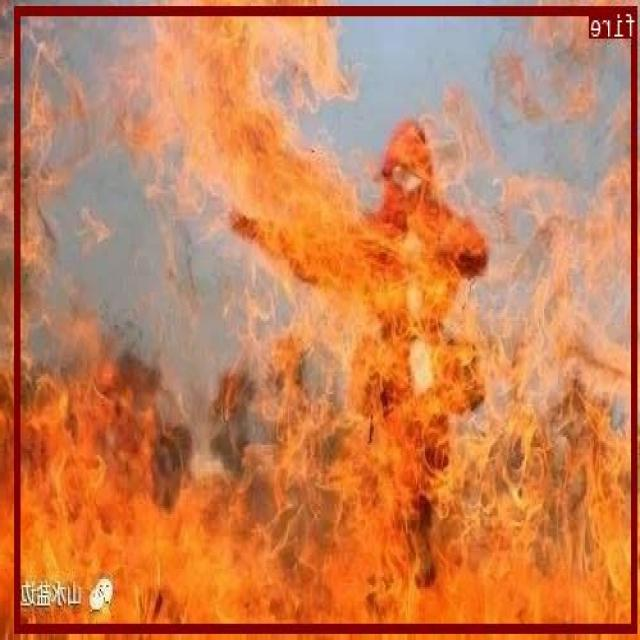fire: (17, 4, 638, 632)
